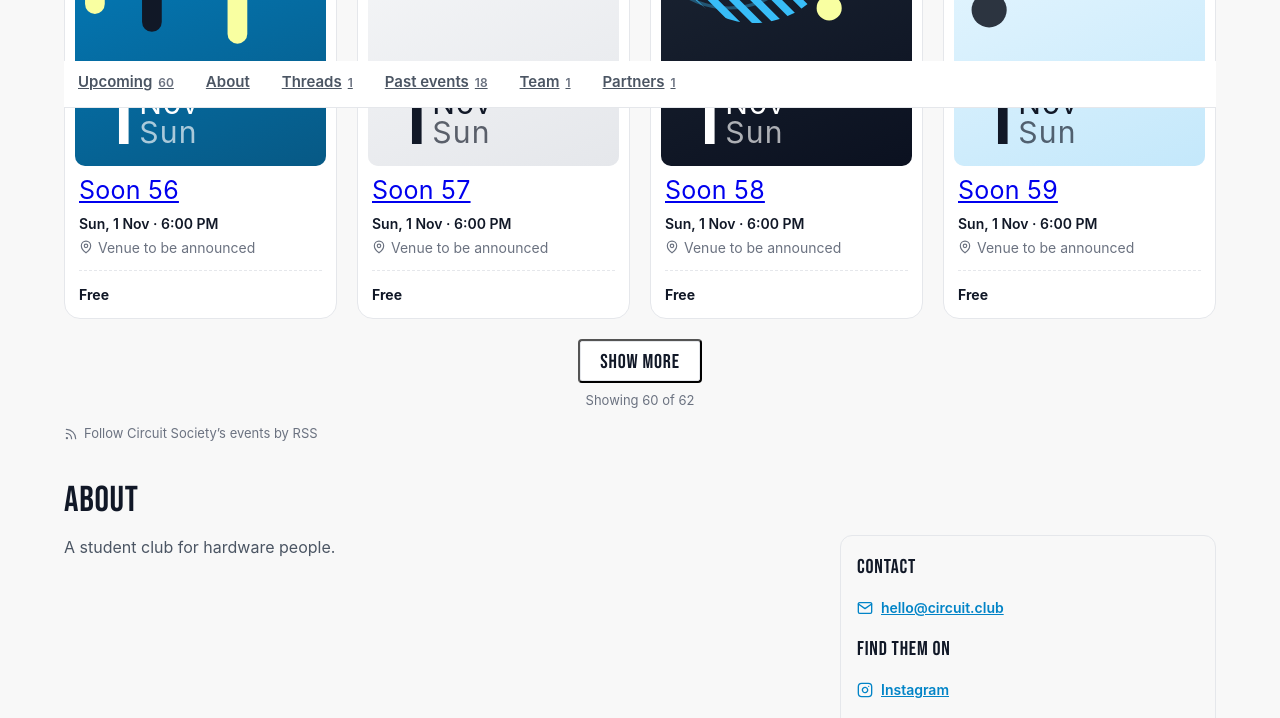
Test case: a club's page › offers more upcoming events too, when the club has more than its page carries
The width and height of the screenshot is (1280, 718).
(page scrolled)
Check: the text "Showing 60 of 62" is shown, box [586,391,694,410]
Click the button "Show more" at (640, 361), box [578,339,702,383]
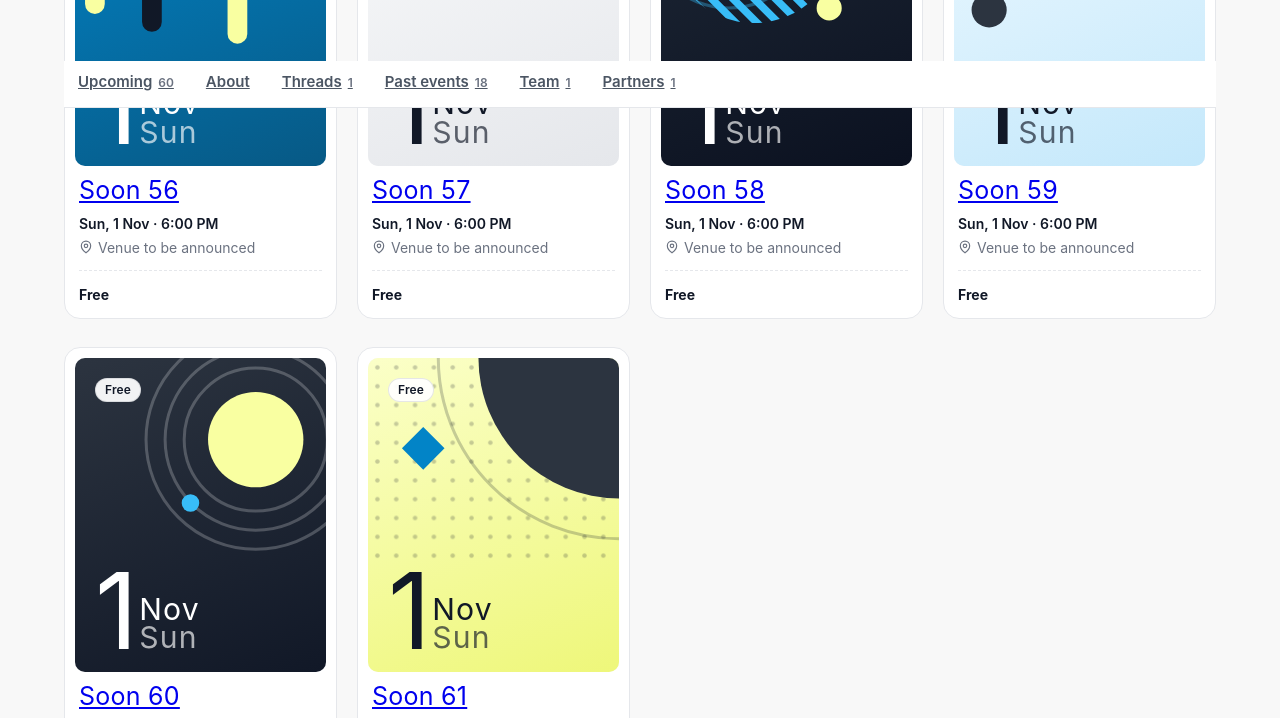
Check: the link "Soon 61" is shown, box [372,684,467,710]
